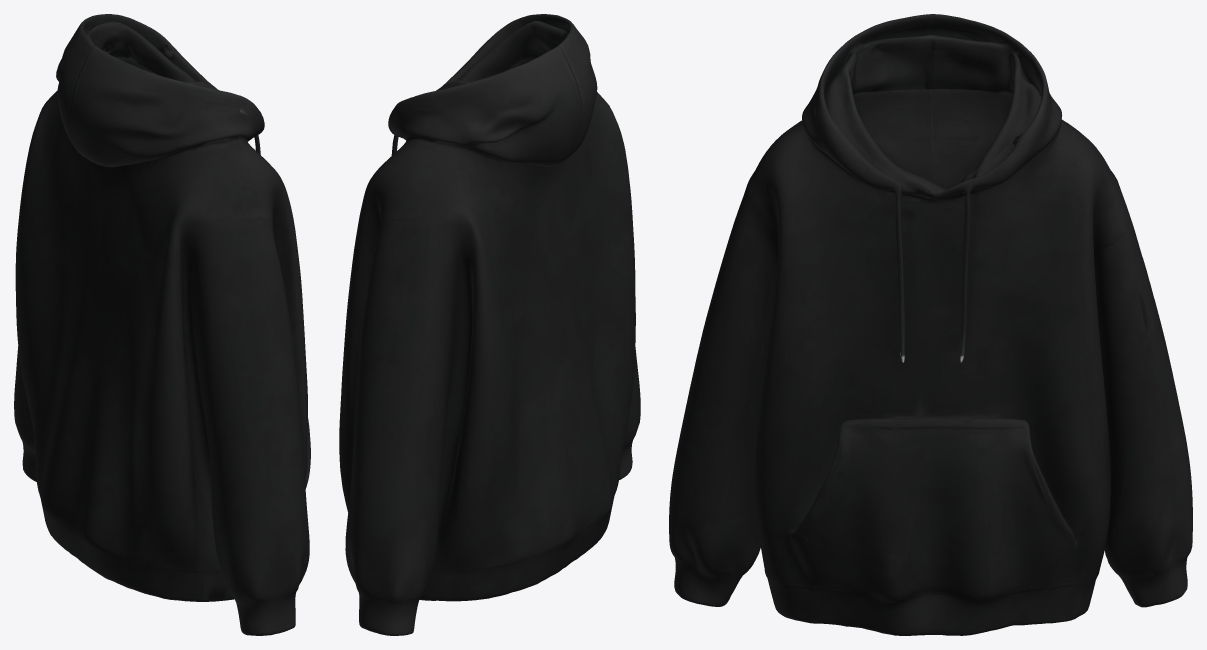
File: black hoodie 3d model.glb
3 views of the same model, side by side, from view 1: azimuth 30°, elevation 25°; view 2: azimuth 150°, elevation 25°; view 3: azimuth 270°, elevation 25° (orthographic). The views are drawn at different scales.
Parts seen in each view (by area): view 1: tripo_node_026f5fc5; view 2: tripo_node_026f5fc5; view 3: tripo_node_026f5fc5.
Boxes of the visible parts, <box> form: tripo_node_026f5fc5: <box>14,14,310,635</box>; tripo_node_026f5fc5: <box>339,14,640,635</box>; tripo_node_026f5fc5: <box>669,14,1192,635</box>.
Size of the model in its own units: 41.63 by 99.88 by 85.55.
1 material, 1 textured.
